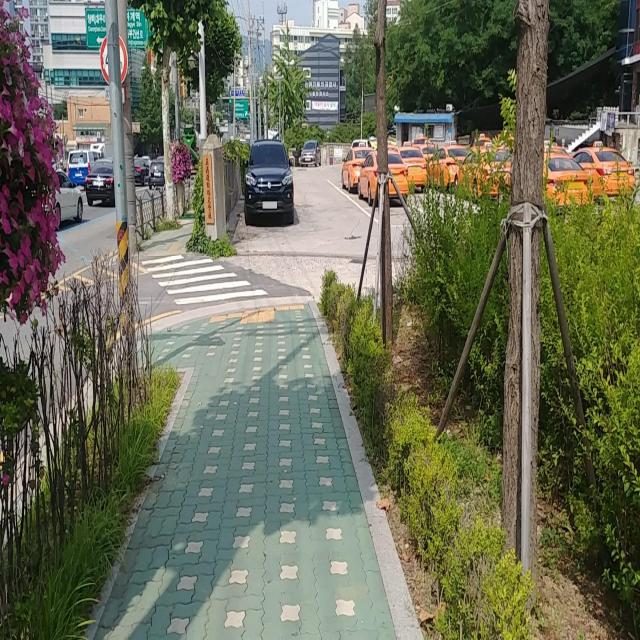횡단보도: (140, 253, 269, 306)
